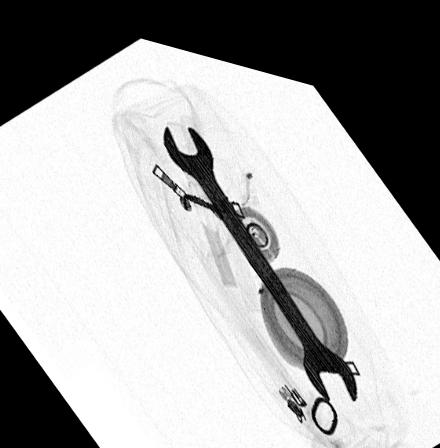Wrench: (162, 115, 359, 386)
